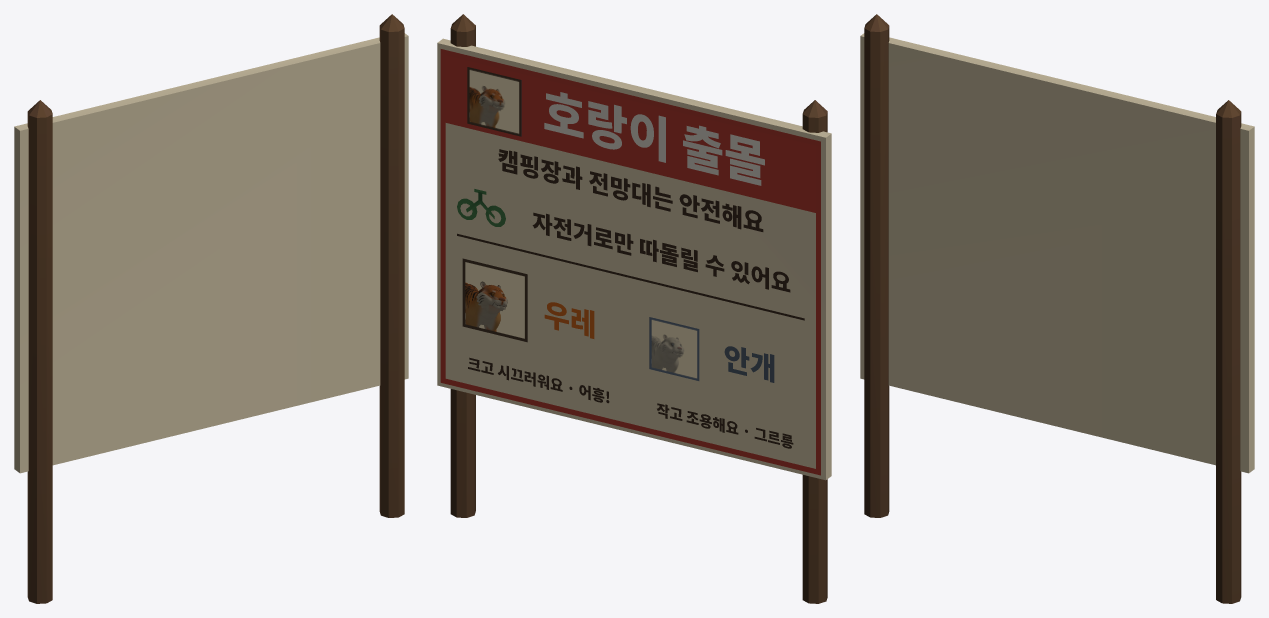
The model's file is sign_tiger.glb.
The picture shows the model from 3 angles, left to right: view 1: azimuth 30°, elevation 25°; view 2: azimuth 150°, elevation 25°; view 3: azimuth 330°, elevation 25°; orthographic projection.
Parts seen in each view (by area): view 1: sign_tiger; view 2: sign_tiger; view 3: sign_tiger.
Part boxes in pixels (bbox=[...]): sign_tiger: bbox=[14, 14, 408, 603]; sign_tiger: bbox=[437, 14, 831, 603]; sign_tiger: bbox=[860, 14, 1254, 603].
Bounding box in the file's own units: 1.9 × 2.33 × 0.138.
Materials: 2 (1 with a texture image).
